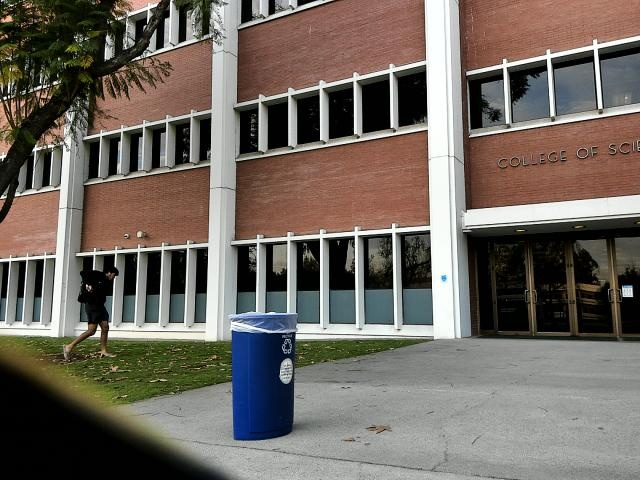trashcan_open: (223, 306, 310, 439)
